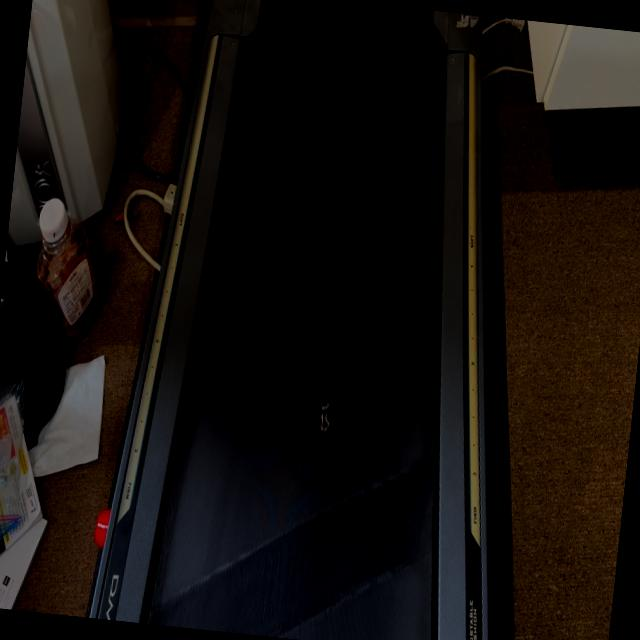Trash: (310, 389, 334, 436)
